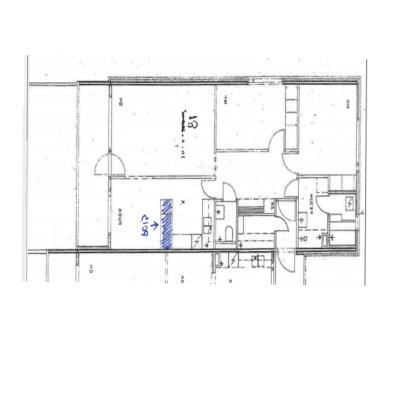door: (93, 153, 127, 180), (274, 198, 299, 224), (280, 152, 303, 177), (276, 247, 297, 273), (266, 127, 286, 153), (219, 180, 240, 204), (200, 180, 220, 201), (283, 177, 302, 199), (314, 194, 332, 216), (274, 215, 290, 236)
window: (247, 74, 286, 89), (106, 94, 114, 152), (354, 118, 362, 174), (105, 189, 113, 237), (356, 212, 362, 232)
